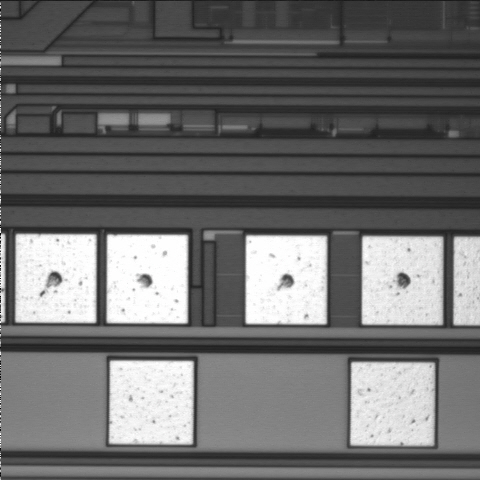pad: (15, 234, 96, 323), (246, 235, 327, 324), (362, 236, 443, 325), (350, 362, 435, 446), (107, 235, 188, 323), (109, 361, 193, 444)
